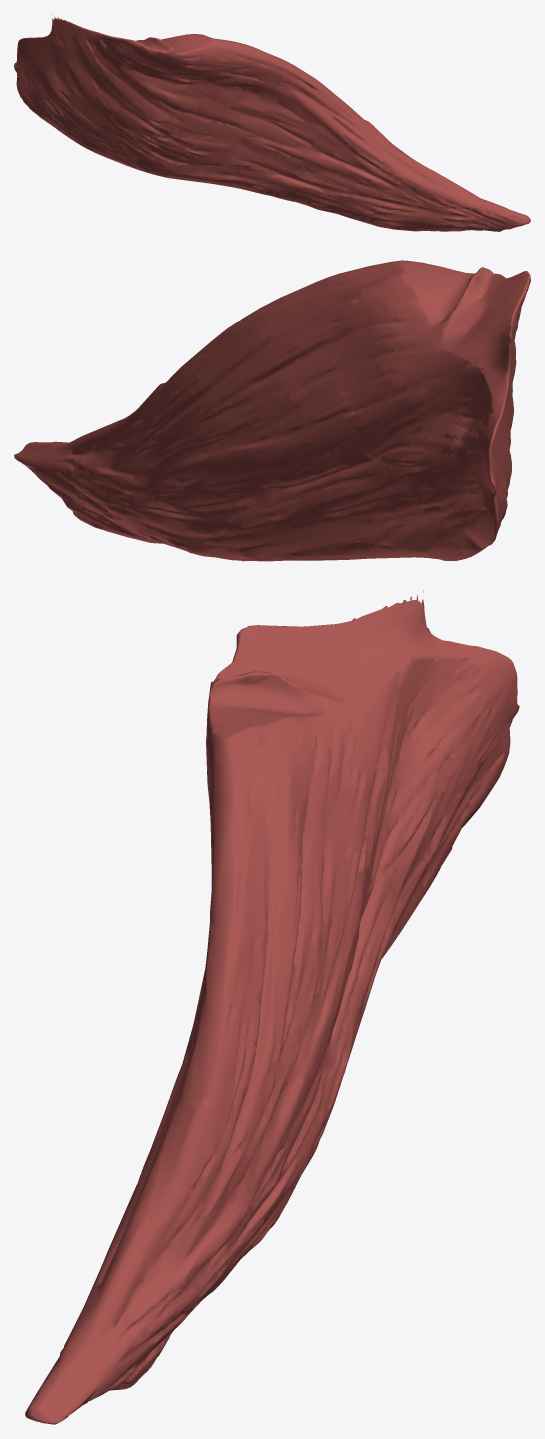
File: FMA22341.glb
The picture shows the model from 3 angles, top to bottom: view 1: azimuth 30°, elevation 25°; view 2: azimuth 150°, elevation 25°; view 3: azimuth 270°, elevation 25°; orthographic projection. The views are drawn at different scales.
Visible parts, largest first — view 1: FMA22341; view 2: FMA22341; view 3: FMA22341.
Part boxes in pixels (x1=…): FMA22341: x1=14, y1=14, x2=530, y2=231; FMA22341: x1=14, y1=260, x2=530, y2=561; FMA22341: x1=25, y1=590, x2=519, y2=1424.
Bounding box in the file's own units: 0.1064 × 0.0614 × 0.0573.
